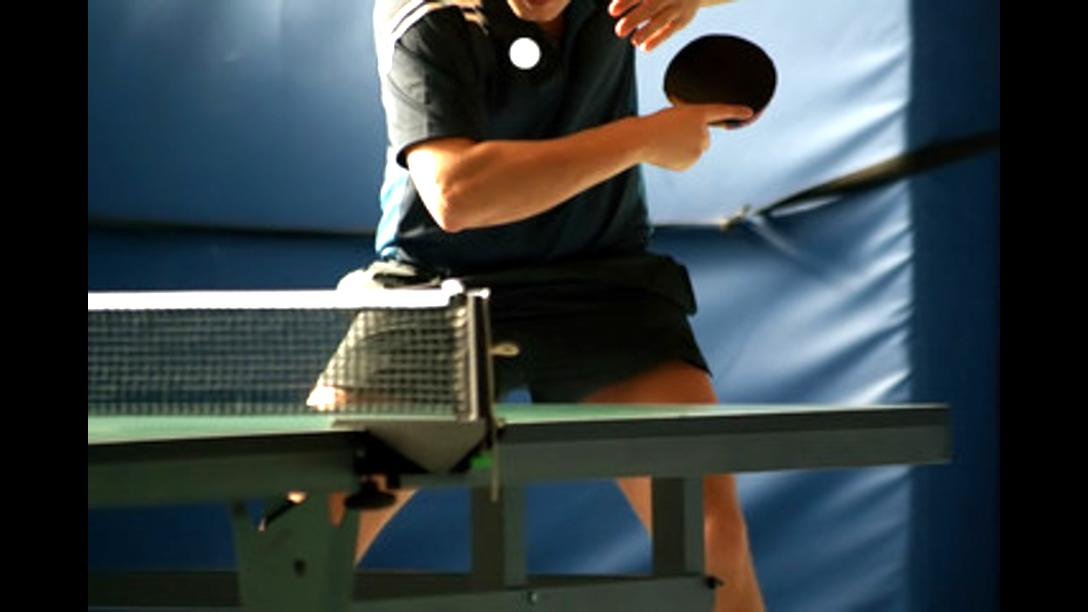Table-Tennis-Ball: (510, 38, 540, 68)
